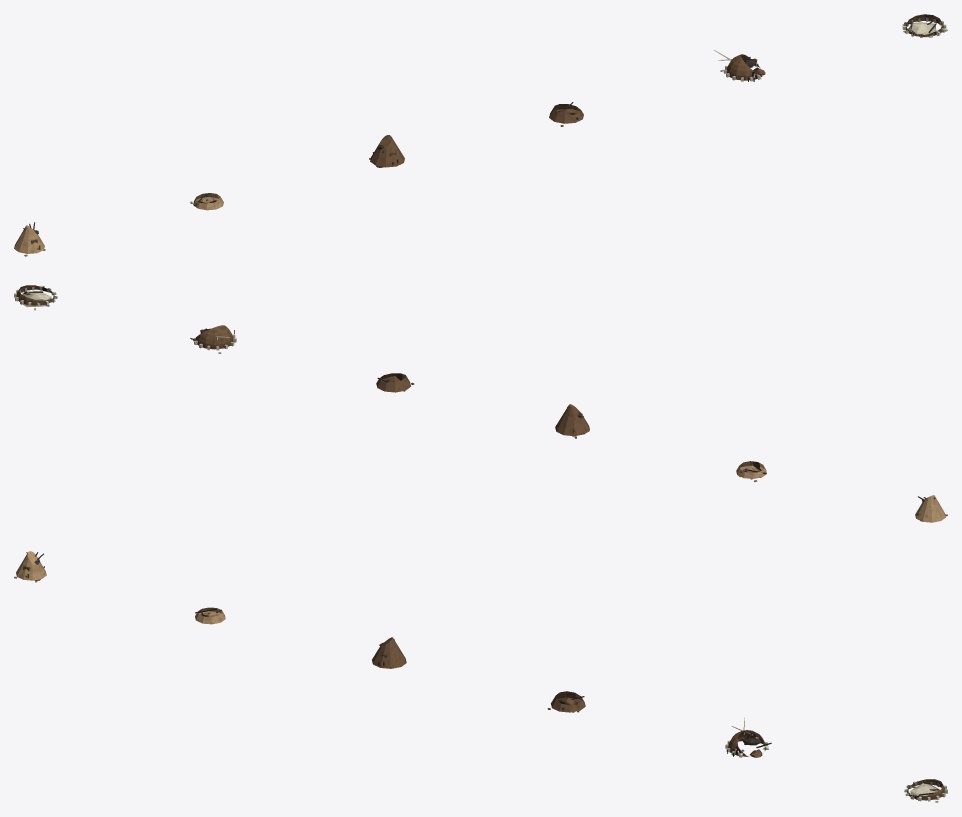
File: stone-steppe-houses-damage.glb
The picture shows the model from 3 angles, top to bottom: view 1: azimuth 30°, elevation 25°; view 2: azimuth 150°, elevation 25°; view 3: azimuth 330°, elevation 25°; orthographic projection.
Parts seen in each view (by area): view 1: LOD0.004, LOD0.005, LOD0.002, LOD0, LOD0.003; view 2: LOD0.004, LOD0.002, LOD0.005, LOD0, LOD0.003; view 3: LOD0.004, LOD0.005, LOD0.002, LOD0, LOD0.003.
Boxes of the visible parts, box(x1,y1,x2,y2) form: LOD0.004: box(714, 50, 765, 81); LOD0.005: box(902, 14, 947, 37); LOD0.002: box(369, 135, 404, 167); LOD0: box(14, 222, 45, 256); LOD0.003: box(549, 102, 583, 126); LOD0.004: box(190, 325, 236, 353); LOD0.002: box(555, 404, 589, 438); LOD0.005: box(14, 285, 57, 310); LOD0: box(915, 495, 947, 522); LOD0.003: box(376, 373, 414, 392); LOD0.004: box(725, 717, 771, 757); LOD0.005: box(904, 779, 947, 802); LOD0.002: box(372, 637, 406, 668); LOD0: box(14, 551, 46, 582); LOD0.003: box(547, 691, 585, 712).
Size of what is drawn, in the model's own units: 15.53 by 0.4126 by 0.7508.
Materials: 1 (1 with a texture image).
